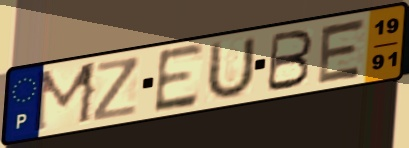B: (264, 28, 316, 95)
E: (152, 40, 207, 116), (314, 16, 369, 87)
M: (31, 59, 101, 136)
U: (202, 33, 258, 104)
Z: (91, 54, 141, 124)
